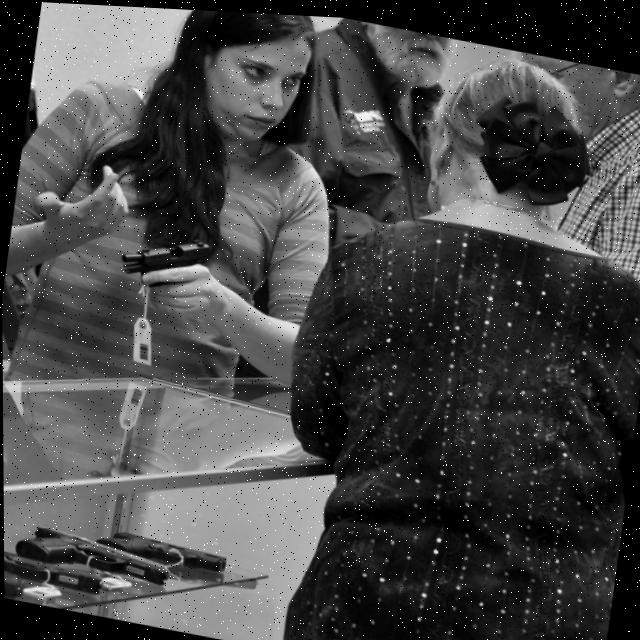pistol: (11, 518, 173, 586), (117, 224, 213, 296), (92, 525, 228, 573), (3, 543, 105, 595), (3, 558, 27, 601)
